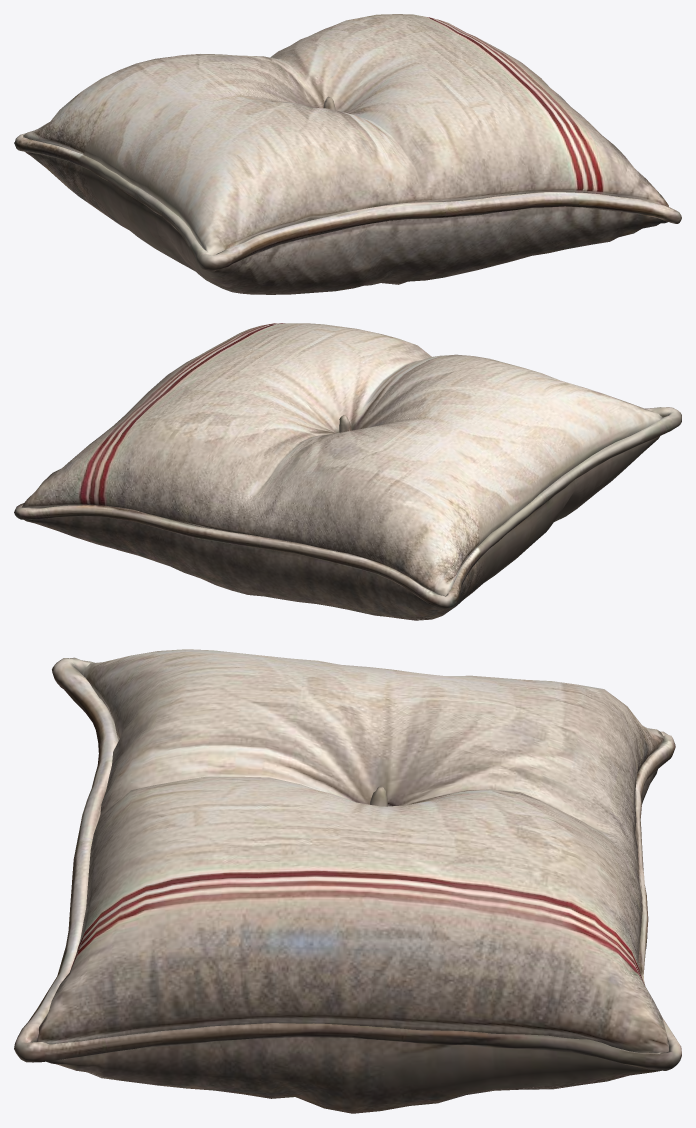
File: act1-a24-6-linen-pillow.glb
3 renders of one model, top to bottom at view 1: azimuth 30°, elevation 25°; view 2: azimuth 150°, elevation 25°; view 3: azimuth 270°, elevation 25°, orthographic. The views are drawn at different scales.
Parts seen in each view (by area): view 1: act1-a24-6-linen-pillow; view 2: act1-a24-6-linen-pillow; view 3: act1-a24-6-linen-pillow.
Boxes of the visible parts, <box> form: act1-a24-6-linen-pillow: <box>14,14,681,294</box>; act1-a24-6-linen-pillow: <box>14,323,681,620</box>; act1-a24-6-linen-pillow: <box>14,649,681,1113</box>.
Size of the model in its own units: 1.5 by 0.5364 by 1.3.
1 material, 1 textured.
